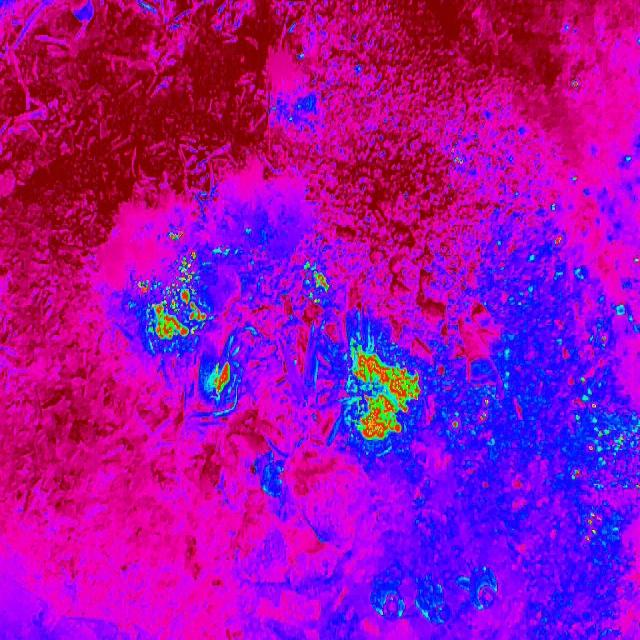fire: (565, 384, 640, 554), (343, 334, 424, 445), (140, 250, 208, 342), (450, 395, 494, 435), (207, 361, 234, 398), (304, 264, 328, 304), (550, 230, 570, 255), (170, 232, 182, 243)
